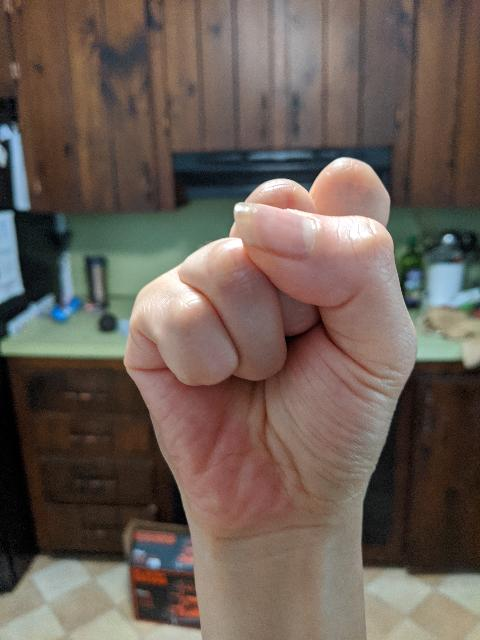S: (118, 150, 422, 556)
